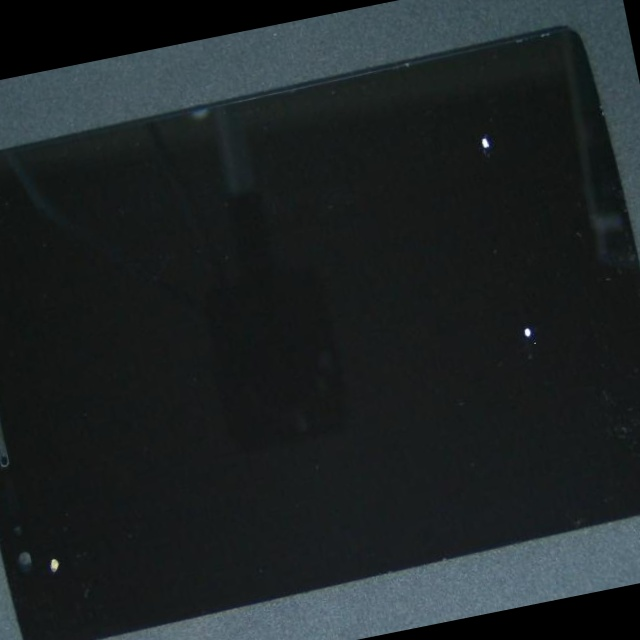stain: (185, 139, 640, 595), (174, 54, 640, 341), (0, 343, 94, 640)
